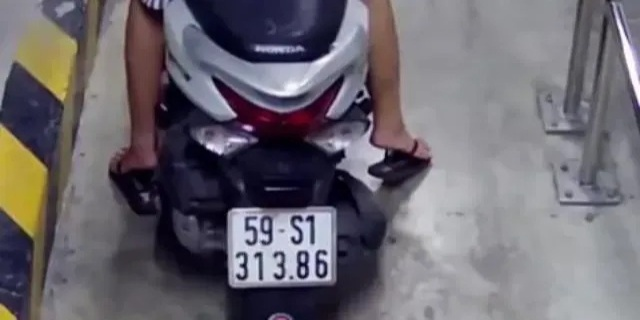bien_so: (227, 205, 338, 288)
